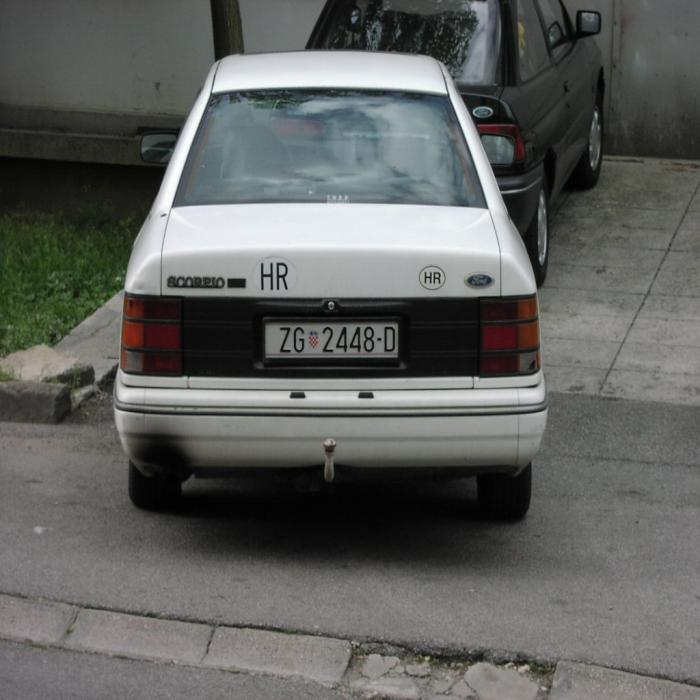number_plate: (266, 323, 397, 356)
